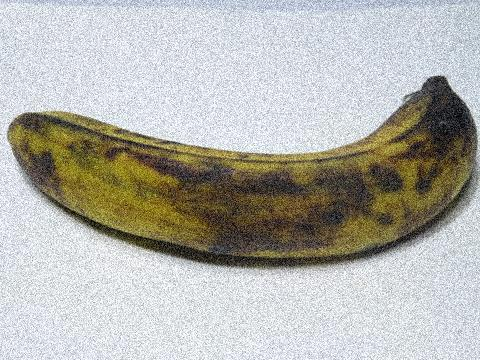overripe: (9, 70, 479, 313)
